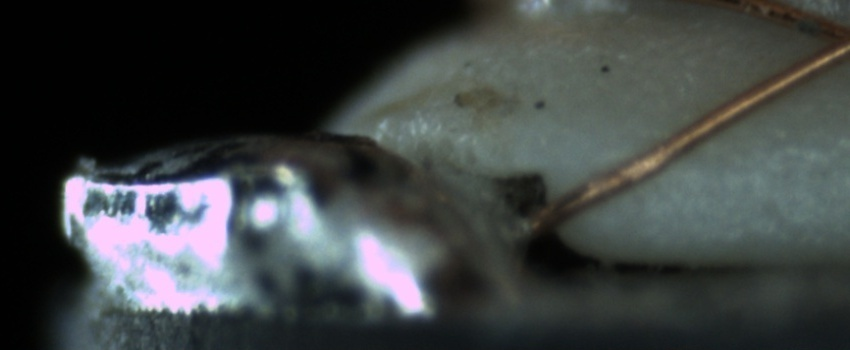CL: (797, 9, 850, 75)
